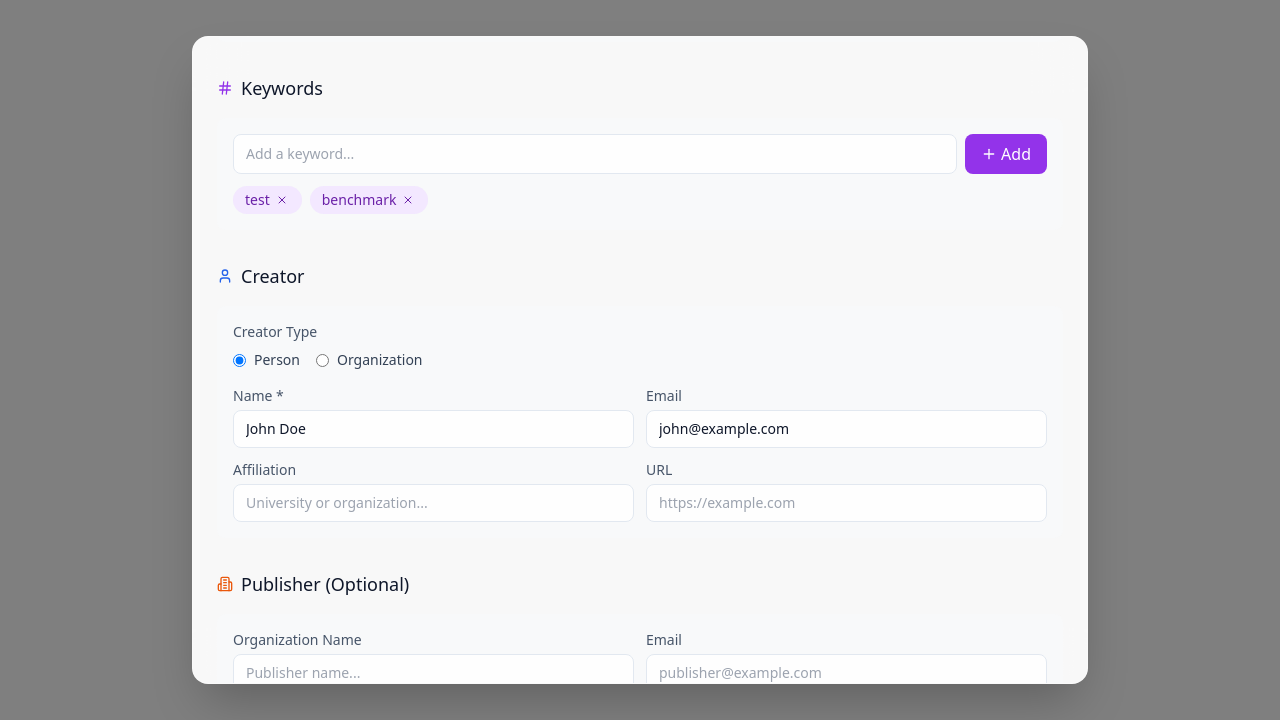
DatasetMetadataEditor › supports both Person and Organization creator types
(page scrolled)
Expected: the field showing "John Doe" below "Name *" is shown, [233,410,634,448]
Expected: the 2nd field showing "john@example.com" is shown, [646,410,1047,448]
# Switch to Organization
Click the radio button labelled "Organization". click: {"x": 322, "y": 360}
box: [316,354,329,366]
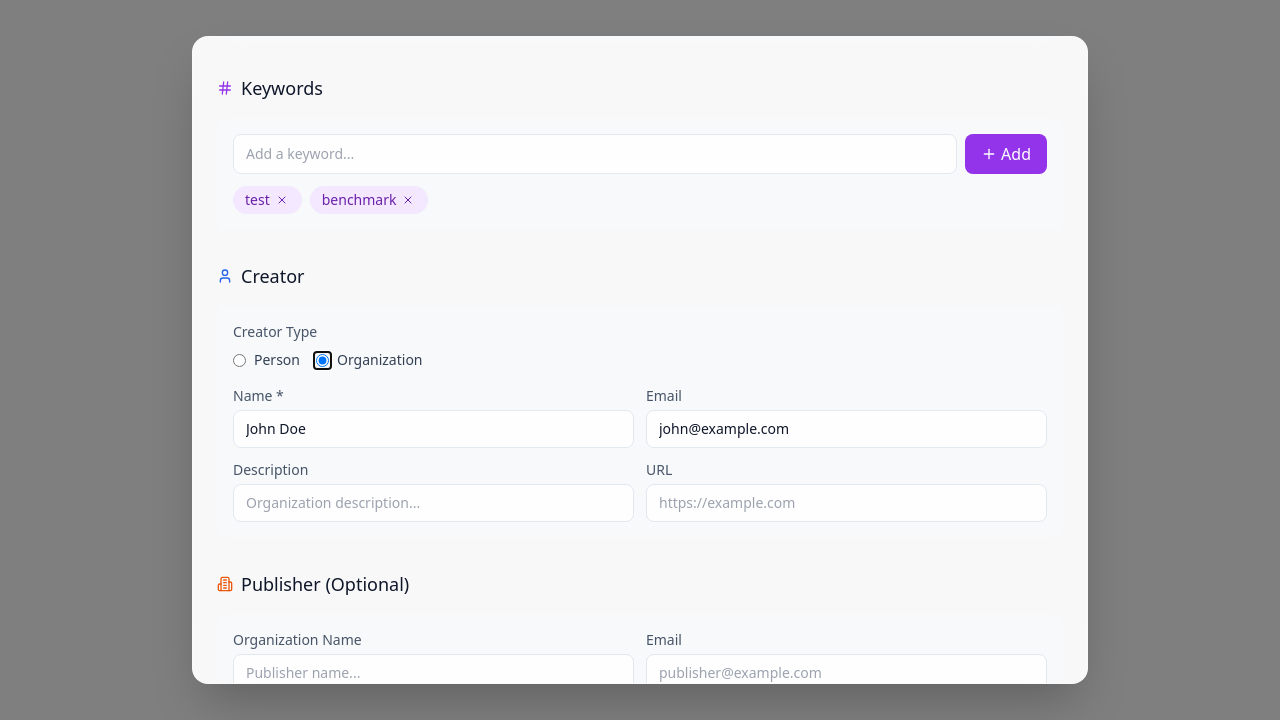
Expected: the field with placeholder "Organization name..." below "Name *" is shown, [233,410,634,448]
Expected: the field with placeholder "Organization description..." is shown, [233,484,634,522]
